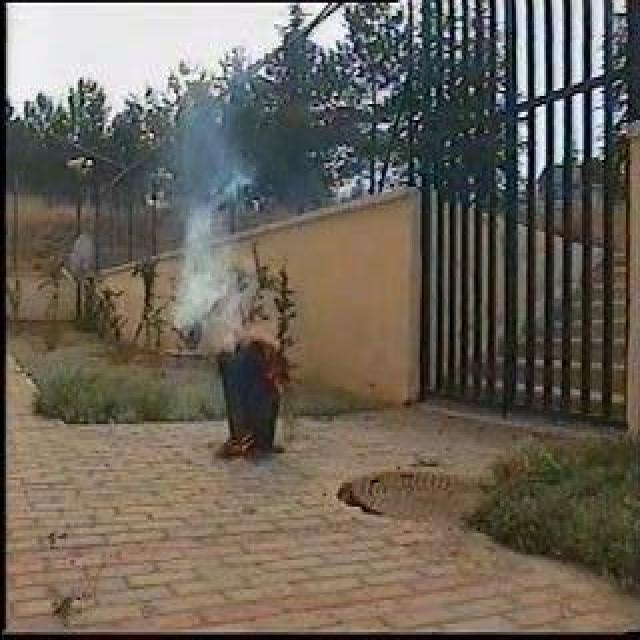Smoke: (158, 127, 252, 337)
